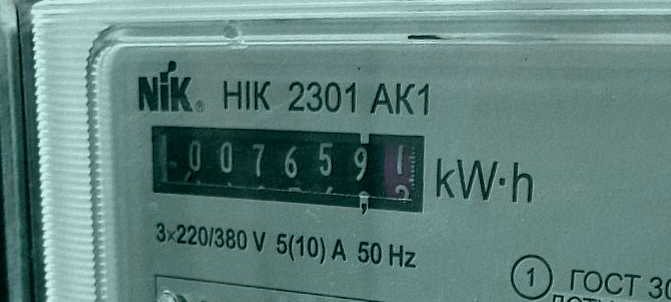0: (215, 137, 238, 178), (184, 137, 207, 176)
1: (389, 140, 410, 179)
5: (313, 139, 338, 180)
6: (279, 140, 304, 183)
7: (246, 139, 271, 180)
9: (349, 144, 373, 185)
screen: (137, 110, 435, 223)
